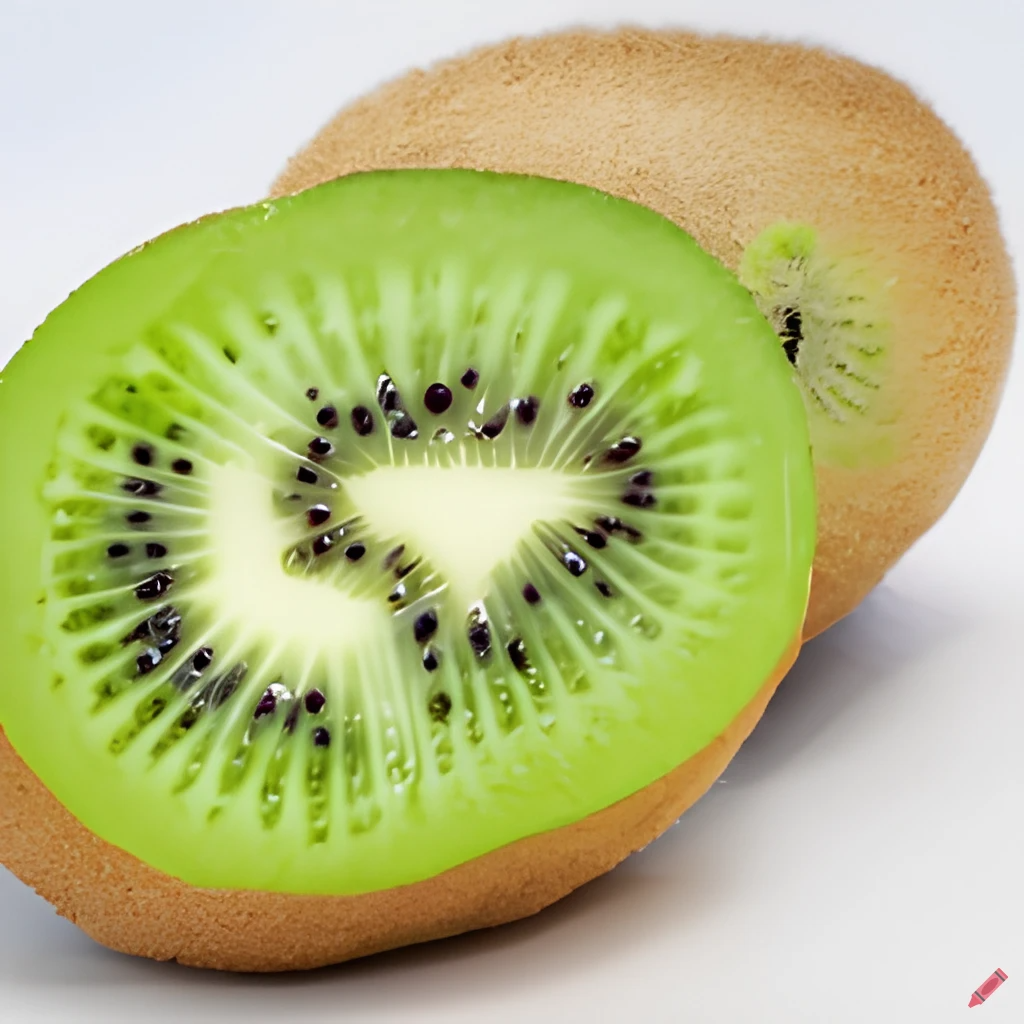Kiwi: (0, 160, 818, 942)
